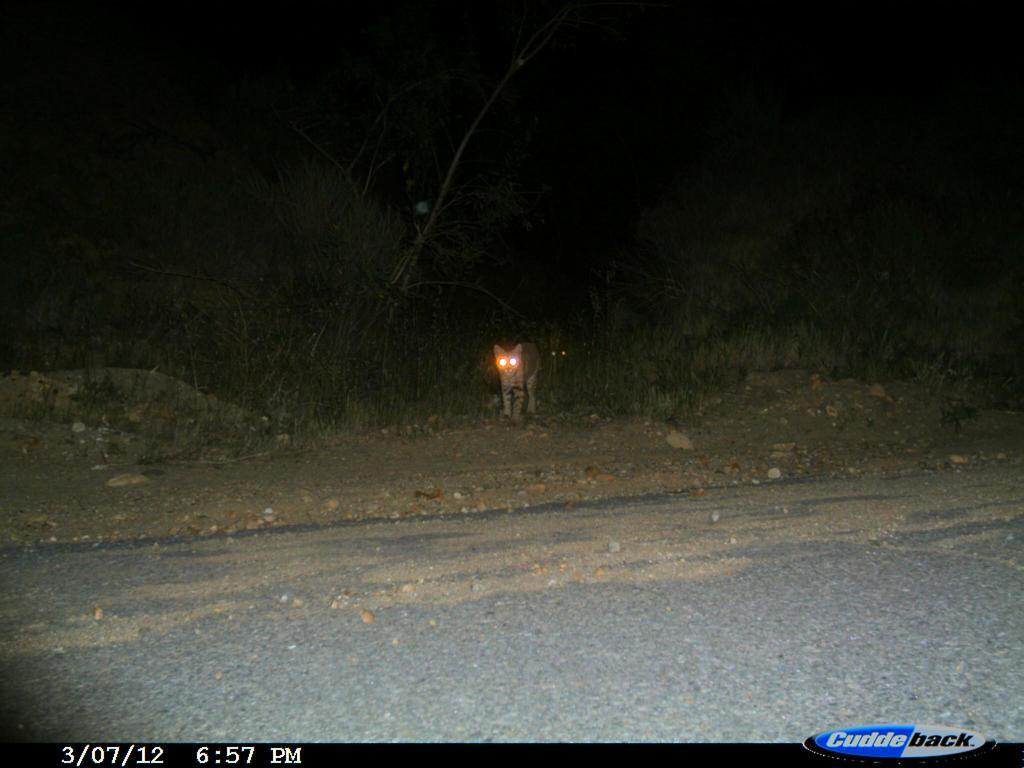bobcat: (483, 338, 550, 422), (547, 339, 580, 378)
